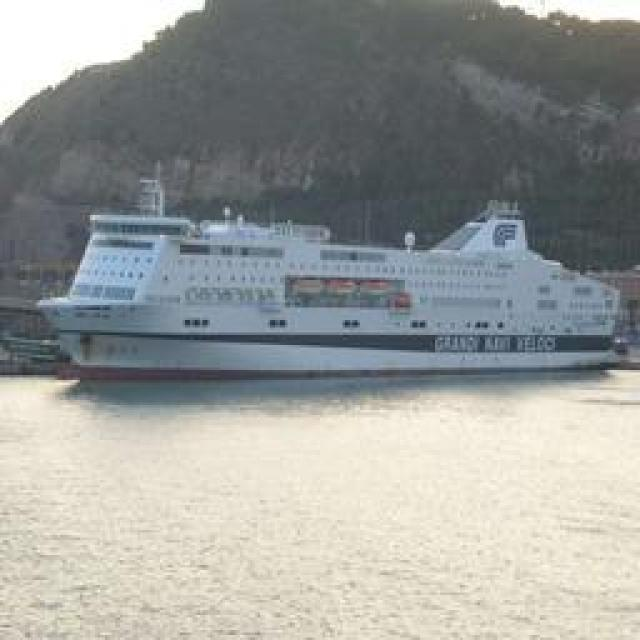ship2: (36, 178, 619, 380)
